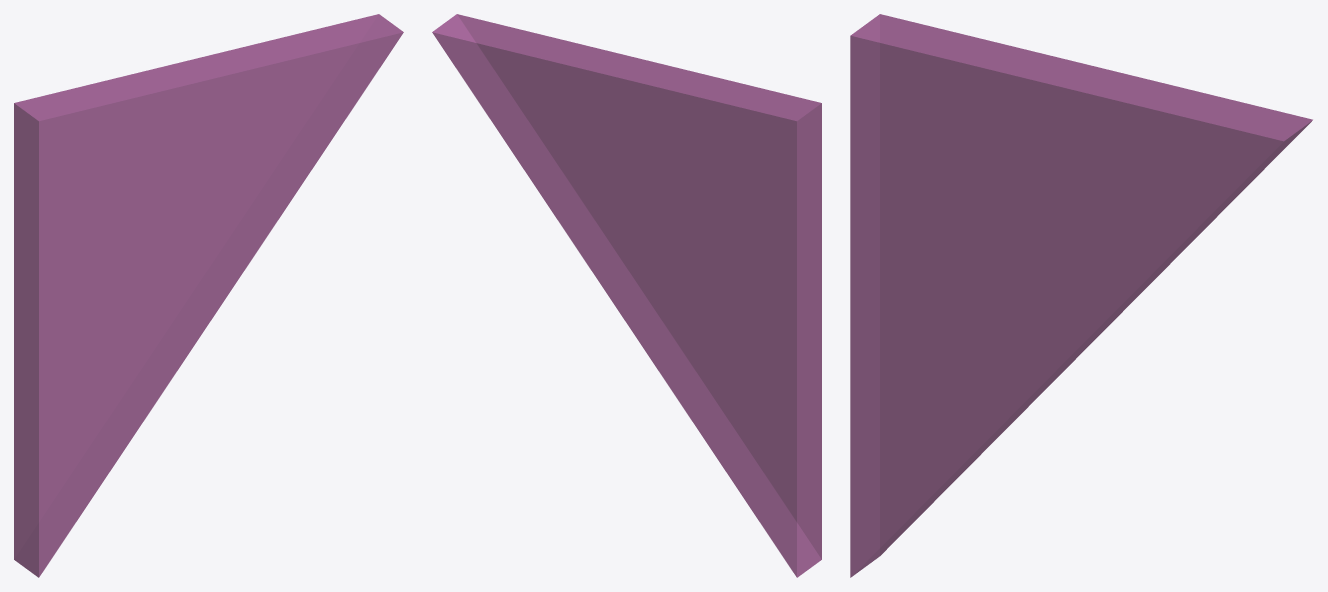
File: SM_Bld_Base_Wall_Angle_02_Collision.fbx
The picture shows the model from 3 angles, left to right: view 1: azimuth 30°, elevation 25°; view 2: azimuth 150°, elevation 25°; view 3: azimuth 330°, elevation 25°; orthographic projection. The views are drawn at different scales.
Parts seen in each view (by area): view 1: SM_Bld_Base_Wall_Angle_02_Collision; view 2: SM_Bld_Base_Wall_Angle_02_Collision; view 3: SM_Bld_Base_Wall_Angle_02_Collision.
Boxes of the visible parts, bbox=[...] form: SM_Bld_Base_Wall_Angle_02_Collision: bbox=[14, 14, 403, 577]; SM_Bld_Base_Wall_Angle_02_Collision: bbox=[432, 14, 821, 577]; SM_Bld_Base_Wall_Angle_02_Collision: bbox=[850, 14, 1312, 577].
Bounding box in the file's own units: 257 × 307 × 30.38.
